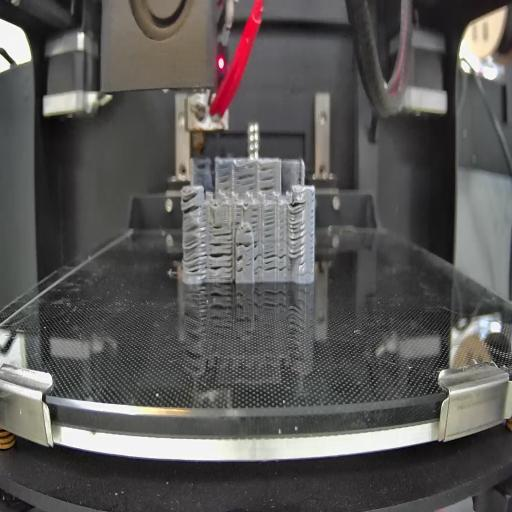cracks: (184, 226, 208, 275), (288, 200, 306, 259), (210, 242, 231, 276), (180, 188, 203, 215), (235, 169, 257, 191), (260, 166, 275, 193), (212, 221, 232, 239), (264, 247, 277, 272), (218, 165, 231, 190), (264, 210, 275, 238), (253, 240, 262, 269), (233, 203, 243, 223), (237, 238, 254, 249), (251, 208, 260, 227), (279, 250, 286, 274), (236, 254, 244, 274), (242, 225, 252, 233)
